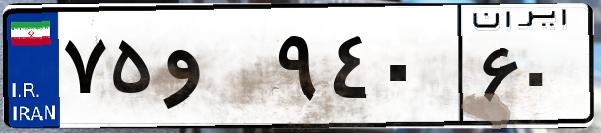0: (385, 28, 445, 110), (525, 38, 570, 115)
4: (330, 28, 385, 110)
5: (110, 28, 158, 98)
6: (475, 38, 525, 113)
7: (57, 26, 110, 100)
9: (270, 28, 330, 110)
و: (158, 20, 270, 120)
